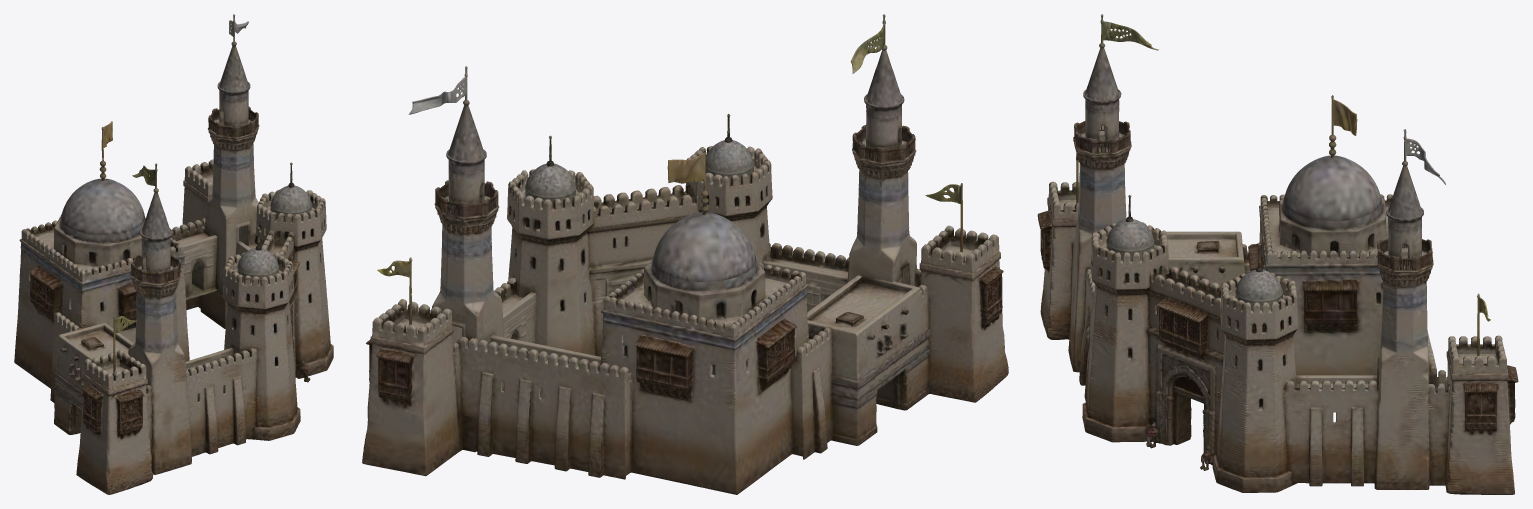
Rendered from castle.glb.
The picture shows the model from 3 angles, left to right: view 1: azimuth 30°, elevation 25°; view 2: azimuth 150°, elevation 25°; view 3: azimuth 270°, elevation 25°; orthographic projection. The views are drawn at different scales.
Parts seen in each view (by area): view 1: tripo_node_d7dd02fa-72dd-4172-b0a7-7a7841eabe27; view 2: tripo_node_d7dd02fa-72dd-4172-b0a7-7a7841eabe27; view 3: tripo_node_d7dd02fa-72dd-4172-b0a7-7a7841eabe27.
Part boxes in pixels (x1,y1,x2,y2): tripo_node_d7dd02fa-72dd-4172-b0a7-7a7841eabe27: [14, 14, 333, 494]; tripo_node_d7dd02fa-72dd-4172-b0a7-7a7841eabe27: [362, 14, 1008, 494]; tripo_node_d7dd02fa-72dd-4172-b0a7-7a7841eabe27: [1037, 14, 1518, 494].
Bounding box in the file's own units: 0.9014 × 0.7833 × 0.9807.
1 material, 1 textured.
